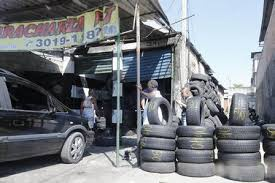tire: (145, 96, 177, 129), (219, 161, 267, 182), (60, 131, 85, 164), (227, 93, 250, 127), (216, 122, 260, 139), (175, 161, 219, 177), (215, 138, 261, 153), (137, 159, 177, 176), (184, 97, 206, 127), (136, 135, 177, 151), (215, 151, 261, 165), (139, 123, 179, 139), (173, 149, 217, 163), (137, 147, 178, 162), (174, 136, 213, 150), (174, 125, 215, 137)
